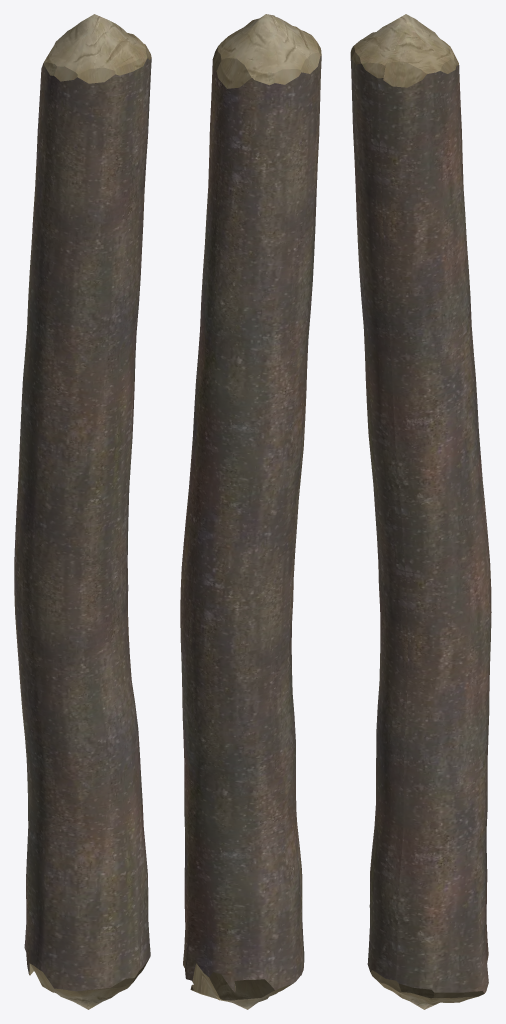
The picture shows the model from 3 angles, left to right: view 1: azimuth 90°, elevation 25°; view 2: azimuth 150°, elevation 25°; view 3: azimuth 330°, elevation 25°; orthographic projection.
Parts seen in each view (by area): view 1: SM_BM_Ash_Tree_01_half_bottom_LOD0; view 2: SM_BM_Ash_Tree_01_half_bottom_LOD0; view 3: SM_BM_Ash_Tree_01_half_bottom_LOD0.
Boxes of the visible parts, x1,y1,x2,y2 form: SM_BM_Ash_Tree_01_half_bottom_LOD0: (14, 14, 151, 1009); SM_BM_Ash_Tree_01_half_bottom_LOD0: (180, 14, 321, 1009); SM_BM_Ash_Tree_01_half_bottom_LOD0: (350, 14, 491, 1009).
Size of the model in its own units: 0.6039 by 4.65 by 0.5767.
1 material, 1 textured.
